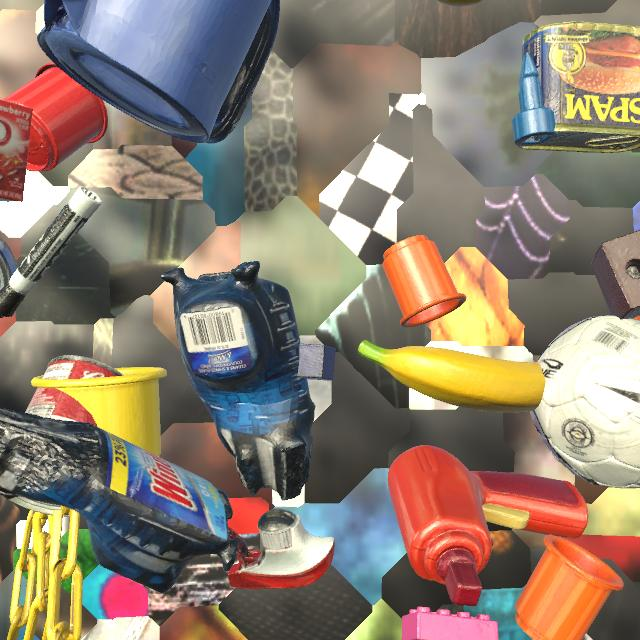ycb_005_tomato_soup_can: (8, 355, 124, 517)
ycb_007_tuna_fish_can: (0, 237, 18, 290)
ycb_009_gelatin_box: (0, 100, 33, 202)
ycb_010_potted_meat_can: (517, 21, 640, 153)
ycb_011_banana: (358, 340, 545, 413)
ycb_014_lemon: (437, 0, 484, 7)
